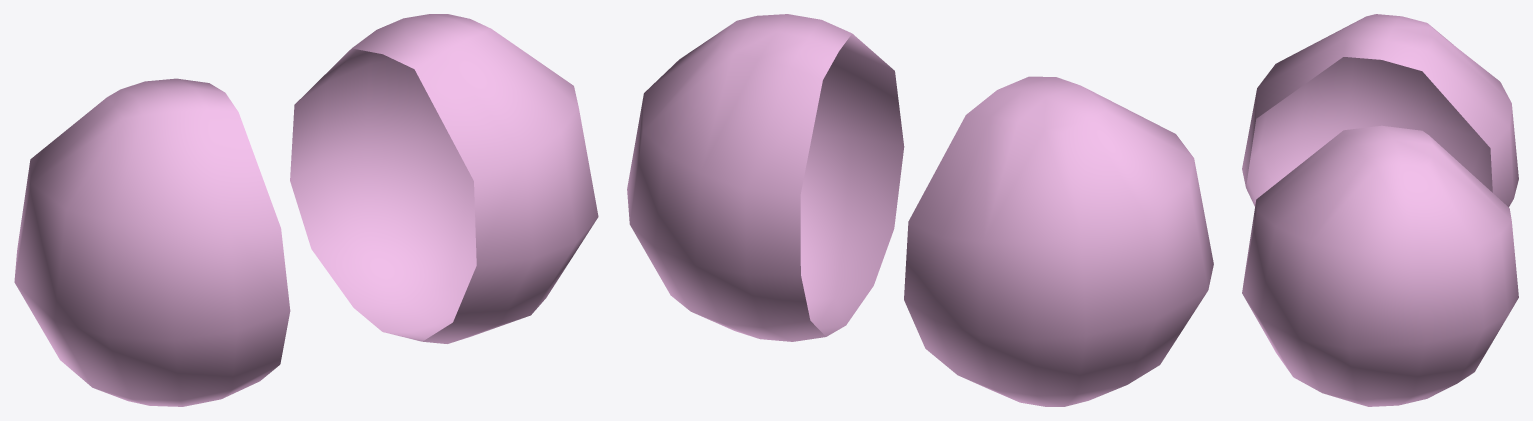
File: Shrimp_Eye_ANylon.fbx
3 views of the same model, side by side, from view 1: azimuth 30°, elevation 25°; view 2: azimuth 150°, elevation 25°; view 3: azimuth 270°, elevation 25° (orthographic). The views are drawn at different scales.
Visible parts, largest first — view 1: Eye_low.002; view 2: Eye_low.002; view 3: Eye_low.002.
Part boxes in pixels (x1,y1,x2,y2): Eye_low.002: [14, 14, 598, 406]; Eye_low.002: [627, 14, 1213, 406]; Eye_low.002: [1242, 14, 1518, 406].
Size of the model in its own units: 24.83 by 13.12 by 12.92.
